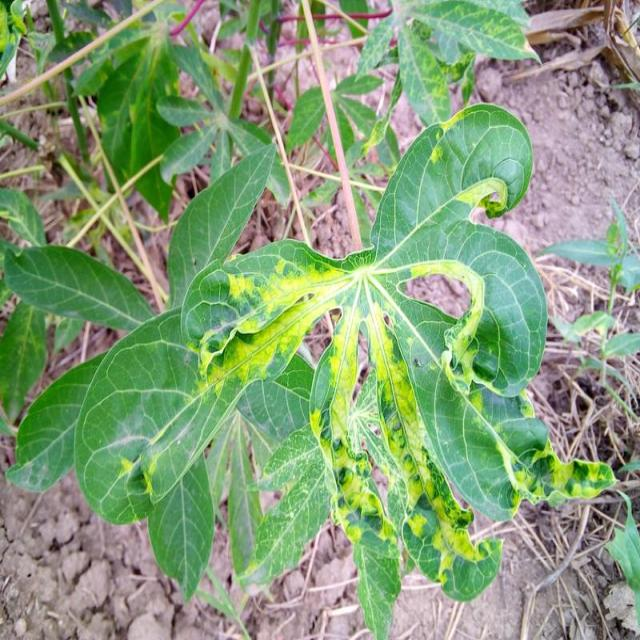cassava leaf: (5, 98, 618, 636)
